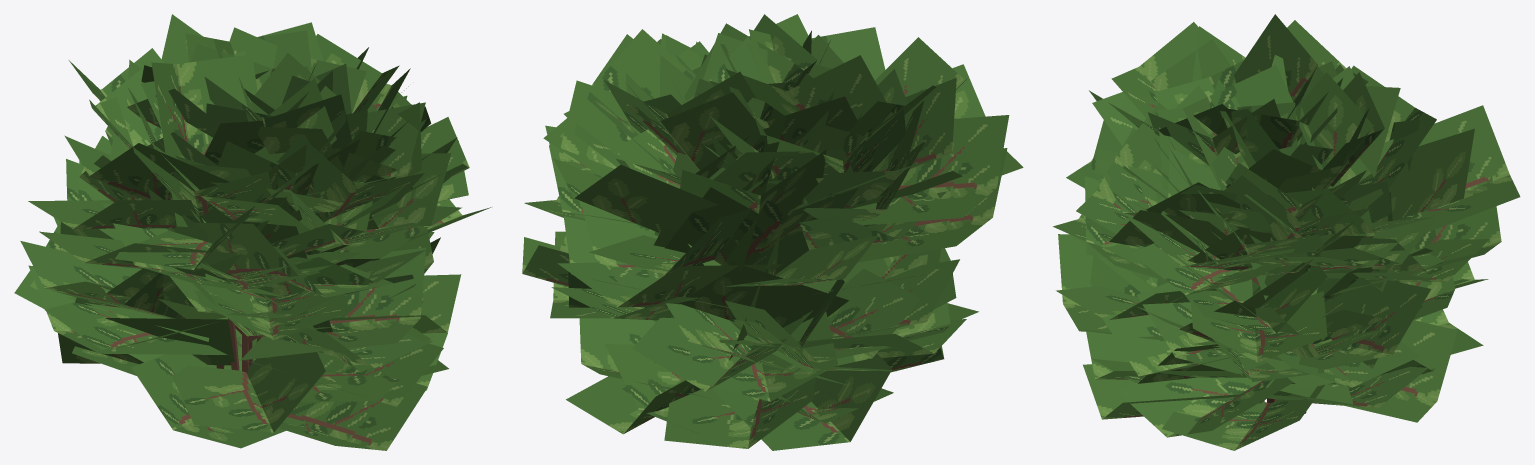
File: leafy_bush3_v1.fbx
3 views of the same model, side by side, from view 1: azimuth 30°, elevation 25°; view 2: azimuth 150°, elevation 25°; view 3: azimuth 270°, elevation 25° (orthographic). The views are drawn at different scales.
Parts seen in each view (by area): view 1: leafy_bush3_v1; view 2: leafy_bush3_v1; view 3: leafy_bush3_v1.
Part boxes in pixels (x1,y1,x2,y2): leafy_bush3_v1: [14, 14, 491, 450]; leafy_bush3_v1: [522, 14, 1023, 450]; leafy_bush3_v1: [1053, 14, 1520, 450].
Size of the model in its own units: 144 by 126 by 149.
